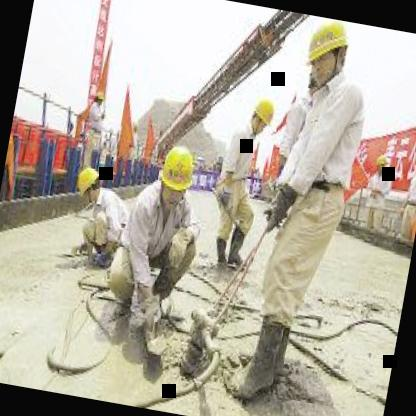helmet: (298, 15, 354, 97), (152, 138, 201, 213), (245, 89, 278, 139), (72, 162, 104, 204), (370, 150, 391, 180), (407, 145, 416, 179)
